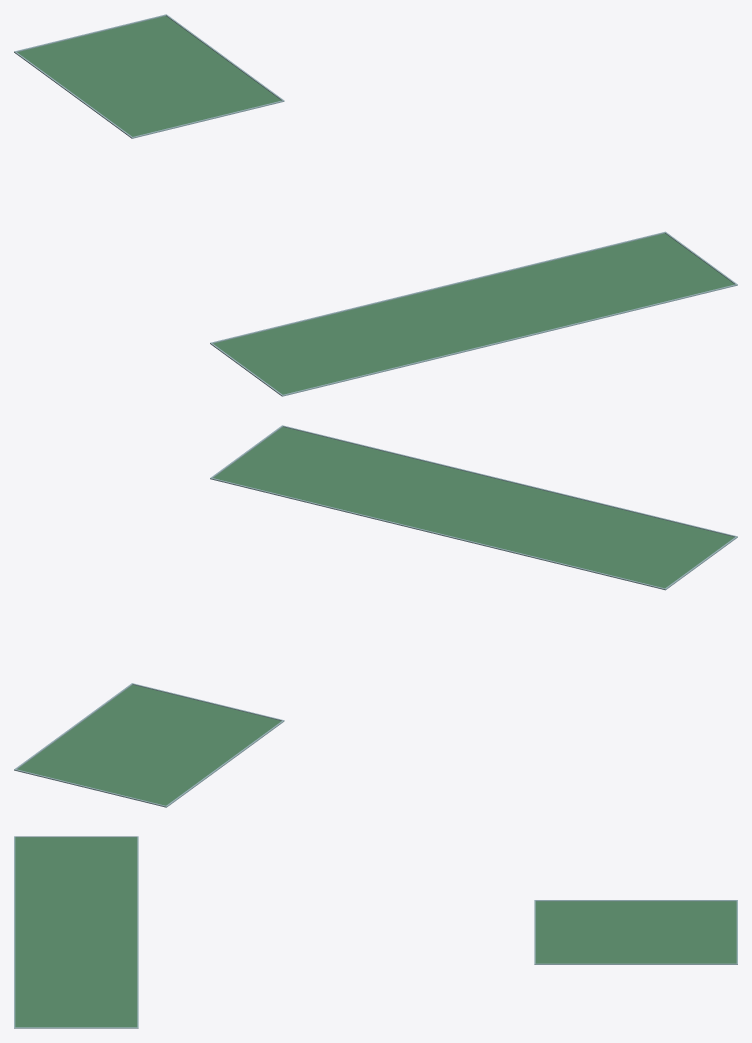
File: Jardines.fbx
3 views of the same model, one above another, from view 1: azimuth 30°, elevation 25°; view 2: azimuth 150°, elevation 25°; view 3: azimuth 270°, elevation 25° (orthographic). The views are drawn at different scales.
Visible parts, largest first — view 1: Cube.035, Cube.036; view 2: Cube.035, Cube.036; view 3: Cube.035, Cube.036.
Boxes of the visible parts, x1,y1,x2,y2 form: Cube.035: (210, 231, 737, 396); Cube.036: (14, 14, 284, 138); Cube.035: (210, 425, 737, 590); Cube.036: (14, 683, 284, 807); Cube.035: (14, 836, 138, 1028); Cube.036: (534, 900, 737, 964).
Bounding box in the file's own units: 7552 × 16.26 × 12050.
